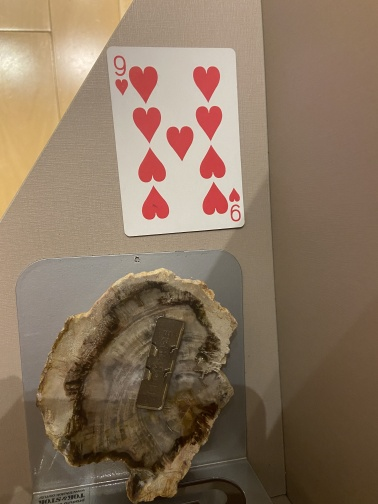nine: (106, 45, 247, 239)
